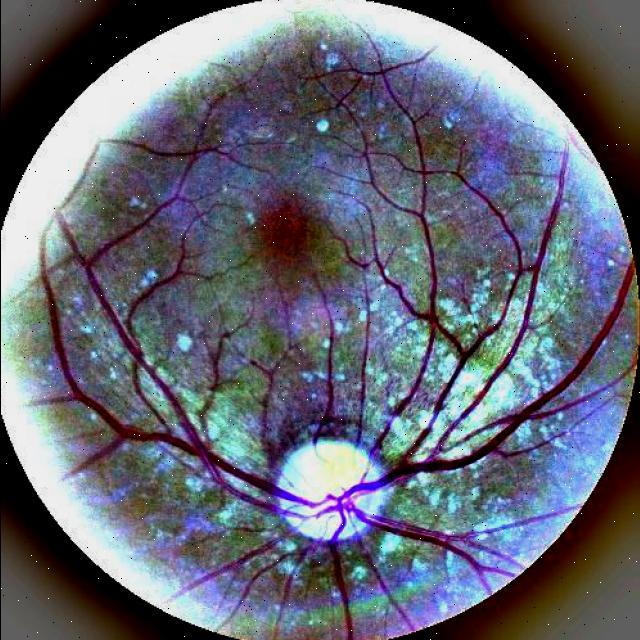Macula: (254, 204, 317, 265)
Nerves: (42, 53, 634, 640)
Optic Disk: (276, 438, 386, 540)
